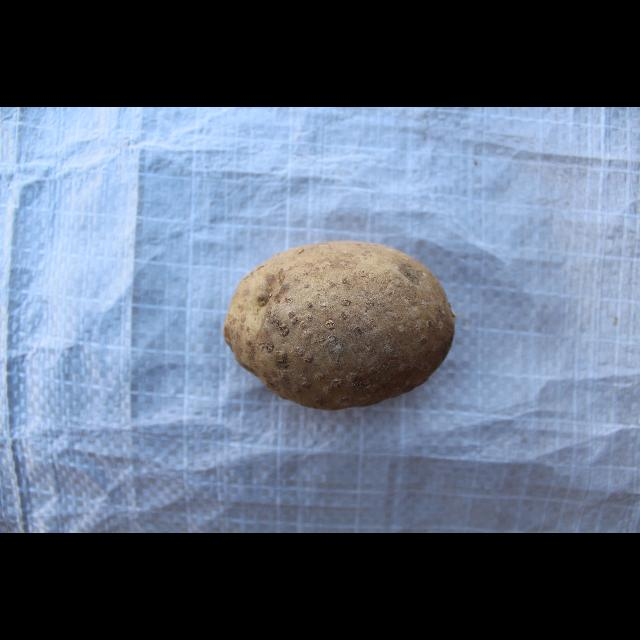Diseased-fungal potato: (221, 242, 463, 412)
